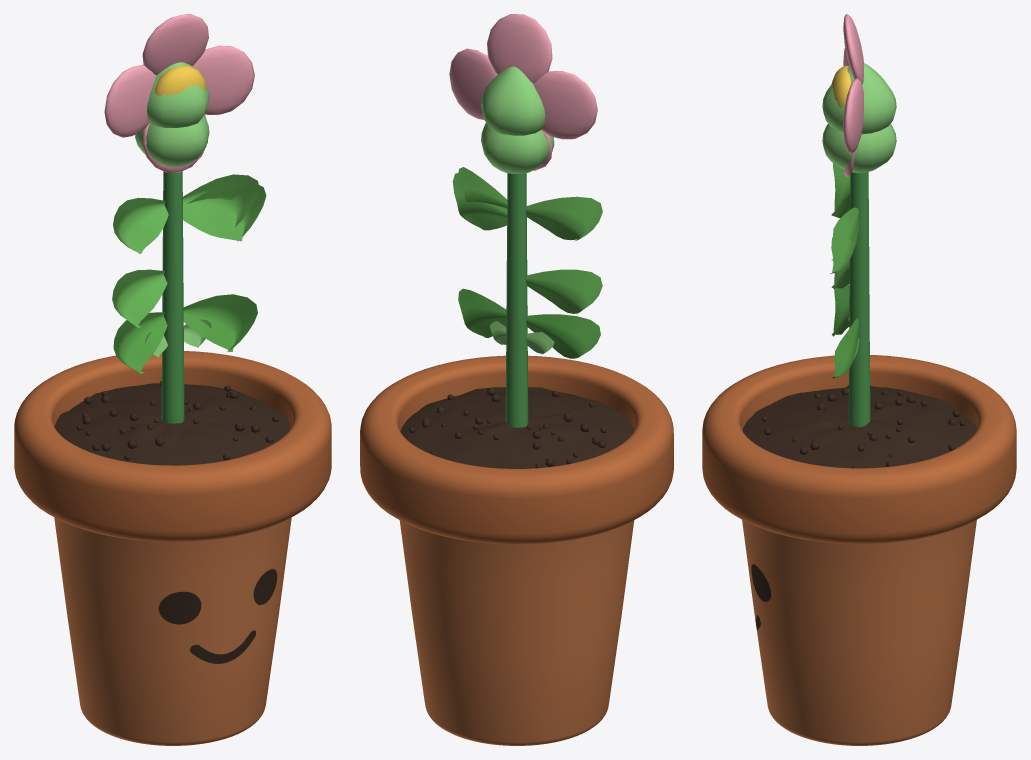
File: sprout.glb
3 views of the same model, side by side, from view 1: azimuth 30°, elevation 25°; view 2: azimuth 150°, elevation 25°; view 3: azimuth 270°, elevation 25° (orthographic).
Visible parts, largest first — view 1: pot, stage_3_bushy, soil, stage_4_bloom, stage_2_young, stage_1_seedling; view 2: pot, stage_3_bushy, soil, stage_4_bloom, stage_2_young, stage_1_seedling; view 3: pot, soil, stage_3_bushy, stage_2_young, stage_4_bloom.
Boxes of the visible parts, x1=… form: pot: x1=14, y1=351, x2=331, y2=745; stage_3_bushy: x1=113, y1=62, x2=259, y2=416; soil: x1=54, y1=381, x2=290, y2=465; stage_4_bloom: x1=104, y1=14, x2=254, y2=172; stage_2_young: x1=112, y1=115, x2=266, y2=423; stage_1_seedling: x1=145, y1=319, x2=211, y2=357; pot: x1=360, y1=355, x2=673, y2=745; stage_3_bushy: x1=458, y1=66, x2=602, y2=420; soil: x1=400, y1=387, x2=634, y2=468; stage_4_bloom: x1=449, y1=14, x2=597, y2=170; stage_2_young: x1=452, y1=123, x2=602, y2=427; stage_1_seedling: x1=490, y1=321, x2=554, y2=354; pot: x1=702, y1=355, x2=1016, y2=745; soil: x1=742, y1=385, x2=976, y2=468; stage_3_bushy: x1=822, y1=63, x2=896, y2=419; stage_2_young: x1=822, y1=123, x2=896, y2=427; stage_4_bloom: x1=831, y1=14, x2=863, y2=176.
Bounding box in the file's own units: 0.07 × 0.17 × 0.07.
9 materials, 1 textured.
